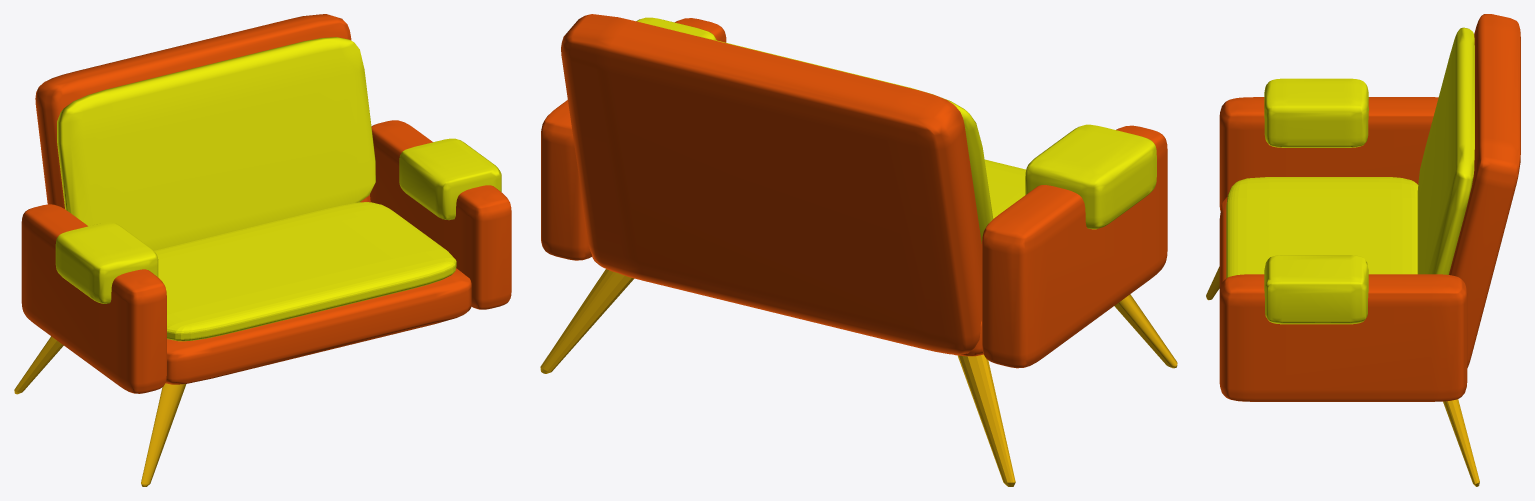
File: level11.1.fbx
The picture shows the model from 3 angles, left to right: view 1: azimuth 30°, elevation 25°; view 2: azimuth 150°, elevation 25°; view 3: azimuth 270°, elevation 25°; orthographic projection. The views are drawn at different scales.
Visible parts, largest first — view 1: polySurface1; view 2: polySurface1; view 3: polySurface1.
Boxes of the visible parts, box(x1,y1,x2,y2) form: polySurface1: box(14, 14, 511, 486); polySurface1: box(540, 14, 1177, 486); polySurface1: box(1206, 14, 1520, 486).
Size of the model in its own units: 5.7 by 3.97 by 3.63.
